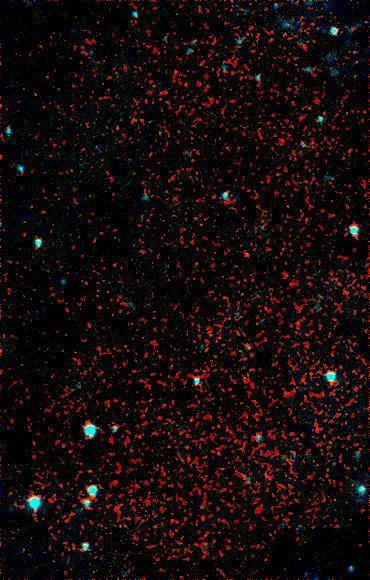star: (235, 243, 265, 273)
